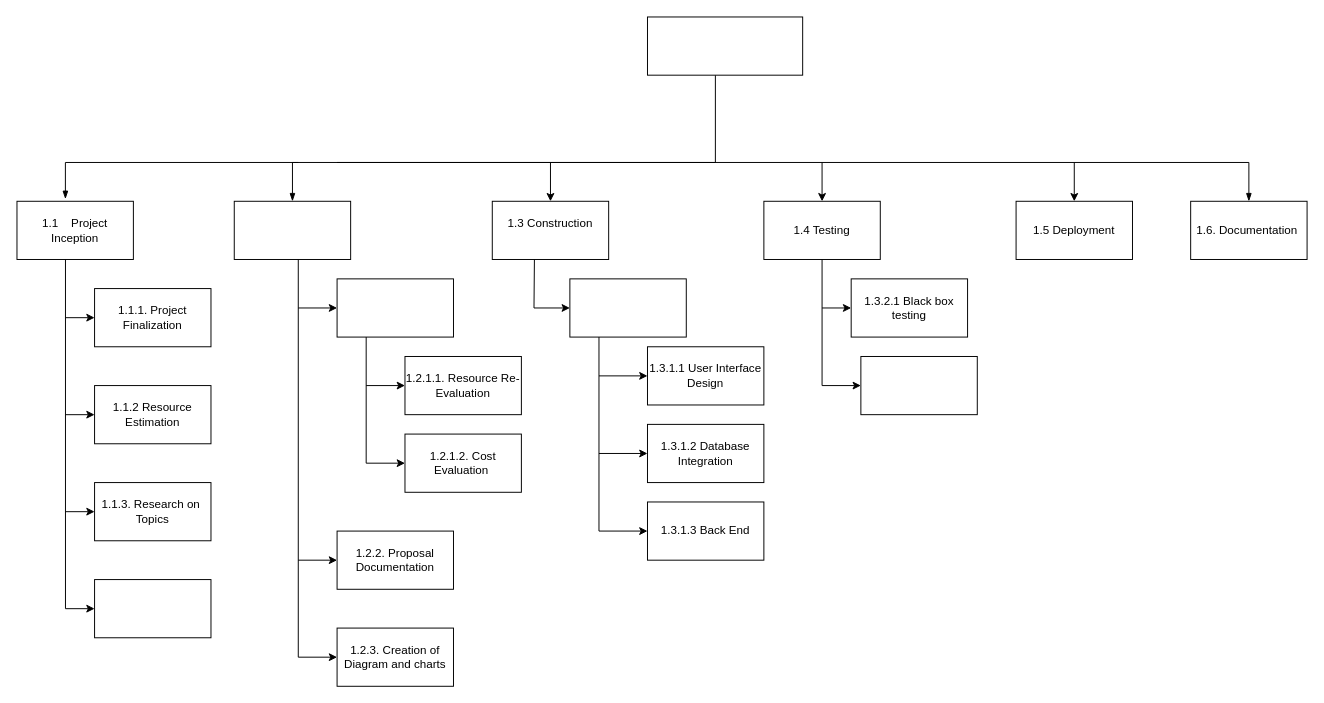
The diagram is 1324 pixels wide and 703 high, and some of its shapes have lost their labels. The centre of each missing label's shape, as x and y in pixels:
"1. Mitra Nepal Adventurous Trekking App" belongs at point (725, 45).
"1.1.4 Determining Client" belongs at point (152, 608).
"1.2 Project Elaboration" belongs at point (292, 229).
"1.2.1. Evaluation" belongs at point (394, 307).
"1.3.1 Development" belongs at point (627, 307).
"1.3.2.2 White box testing" belongs at point (918, 385).
